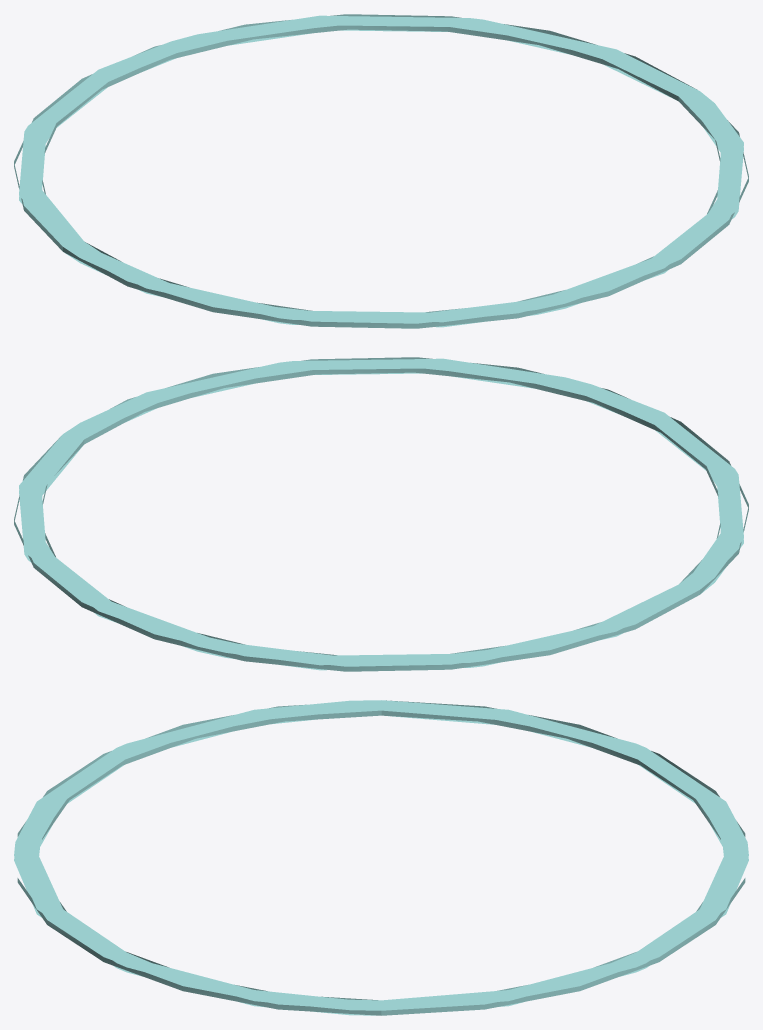
The model's file is compus_round.fbx.
3 views of the same model, one above another, from view 1: azimuth 30°, elevation 25°; view 2: azimuth 150°, elevation 25°; view 3: azimuth 270°, elevation 25° (orthographic).
Parts seen in each view (by area): view 1: polySurface1; view 2: polySurface1; view 3: polySurface1.
Boxes of the visible parts, left/top/right/bottom form: polySurface1: left=14, top=14, right=748, bottom=328; polySurface1: left=14, top=357, right=748, bottom=671; polySurface1: left=14, top=700, right=748, bottom=1015.
Size of the model in its own units: 39.63 by 0.3 by 39.63.
